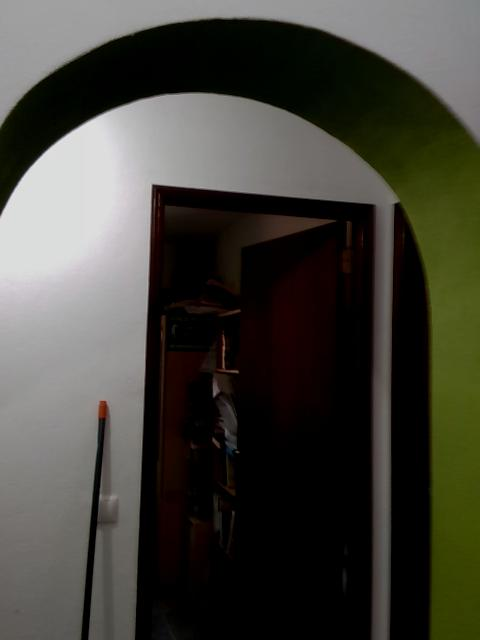open_door: (134, 180, 376, 638)
